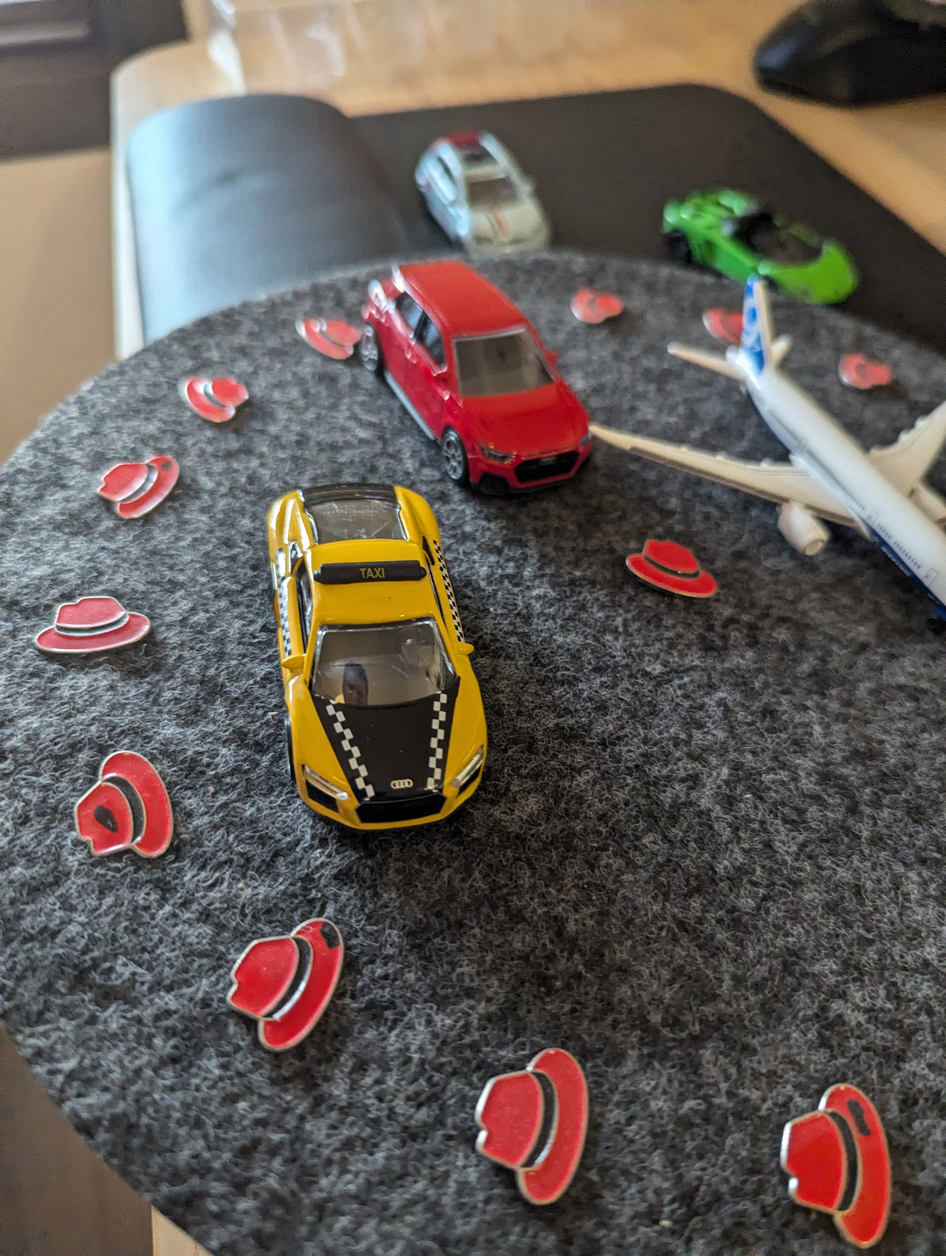Airplane: (574, 234, 946, 682)
Car: (239, 465, 498, 851), (342, 256, 633, 497), (652, 173, 875, 315), (397, 115, 568, 268)
Red-Hat: (752, 1054, 934, 1255), (452, 1023, 621, 1234), (209, 885, 361, 1056), (32, 730, 191, 868), (16, 576, 185, 672), (80, 429, 206, 532), (612, 519, 724, 605), (165, 355, 261, 442), (287, 297, 368, 365), (821, 333, 906, 397), (565, 277, 641, 339)
Scratch: (835, 1085, 891, 1148), (314, 914, 356, 963), (86, 796, 126, 840), (152, 453, 191, 479)
